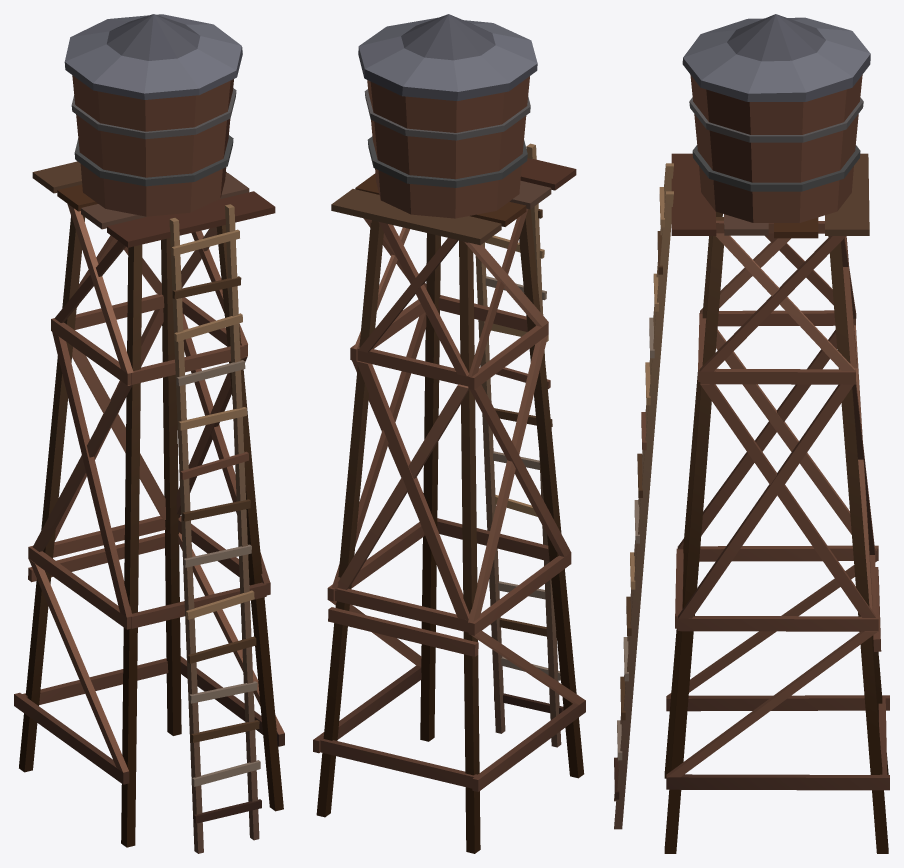
File: cistern.gltf
3 views of the same model, side by side, from view 1: azimuth 30°, elevation 25°; view 2: azimuth 150°, elevation 25°; view 3: azimuth 270°, elevation 25° (orthographic). The views are drawn at different scales.
Parts seen in each view (by area): view 1: Cistern; view 2: Cistern; view 3: Cistern.
Boxes of the visible parts, x1,y1,x2,y2 form: Cistern: (14, 14, 284, 853); Cistern: (313, 14, 585, 853); Cistern: (614, 14, 889, 853).
Size of what is drawn, in the model's own units: 1.79 by 8.08 by 2.52.
1 material, 1 textured.
